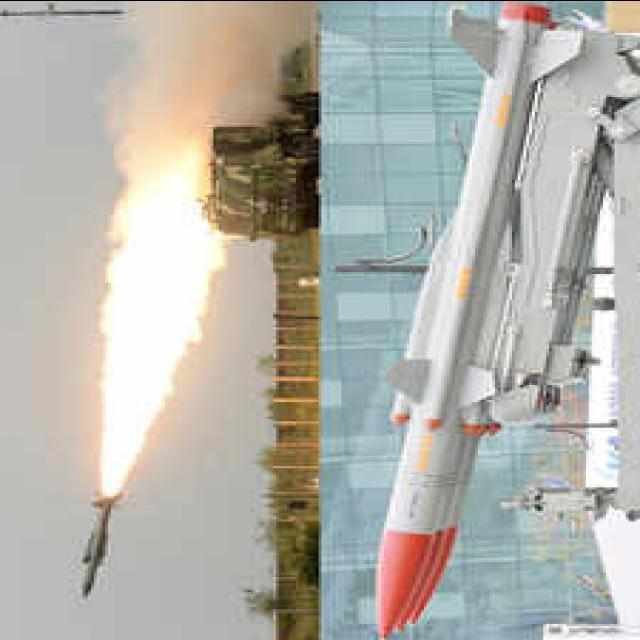missile: (364, 0, 550, 631), (75, 488, 115, 601)
